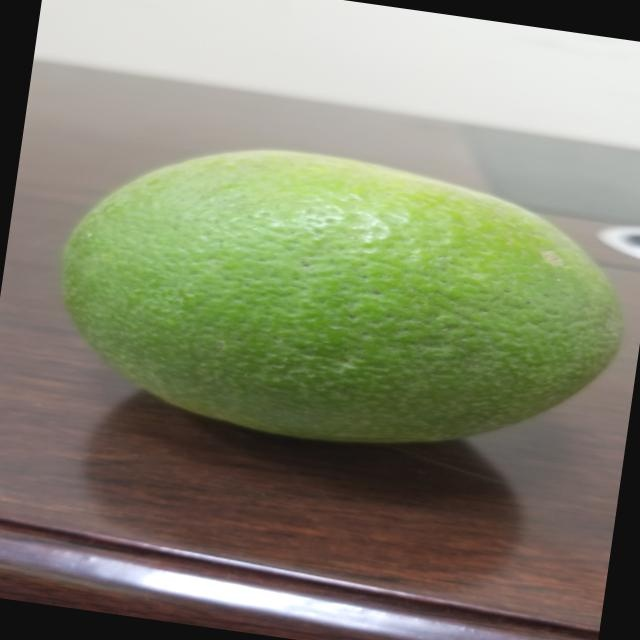agrume: (17, 116, 640, 492)
